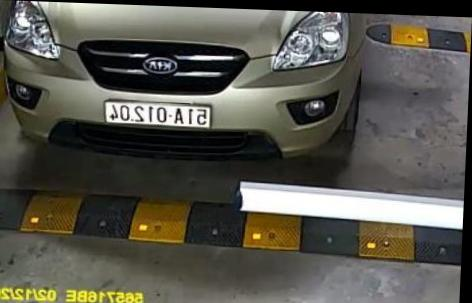License_Plate: (104, 100, 210, 127)
